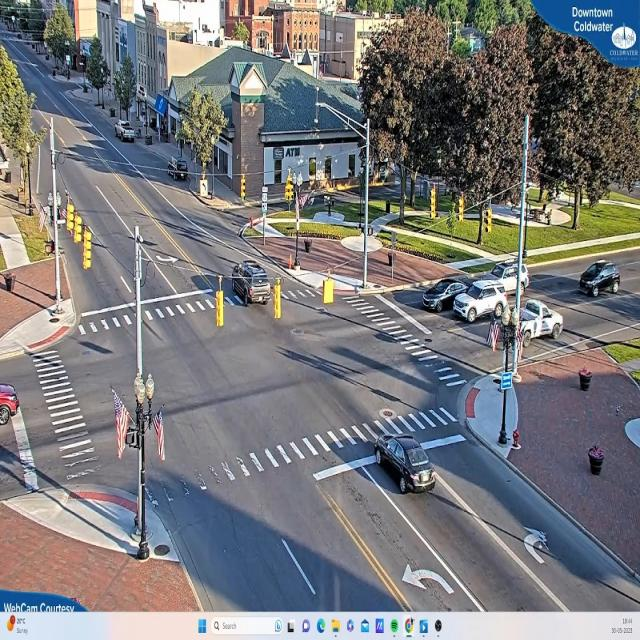car: (372, 434, 437, 494), (230, 256, 274, 310), (453, 285, 512, 324), (521, 299, 565, 340), (475, 263, 530, 295), (422, 280, 477, 312), (579, 264, 620, 299), (1, 384, 22, 422), (117, 122, 136, 142)
